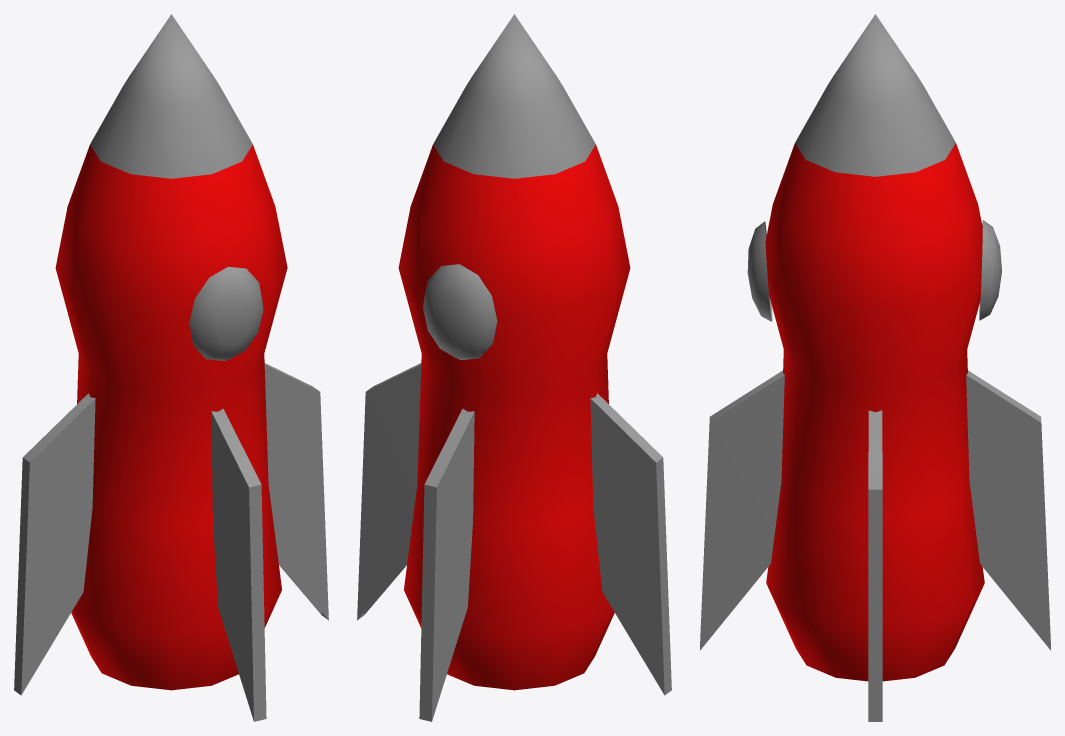
Rendered from model_ship04.FBX.
3 renders of one model, left to right at view 1: azimuth 30°, elevation 25°; view 2: azimuth 150°, elevation 25°; view 3: azimuth 270°, elevation 25°, orthographic.
Visible parts, largest first — view 1: mesh_ship04; view 2: mesh_ship04; view 3: mesh_ship04.
Part boxes in pixels (bbox=[...]): mesh_ship04: bbox=[14, 14, 328, 721]; mesh_ship04: bbox=[357, 14, 671, 721]; mesh_ship04: bbox=[700, 14, 1050, 721].
Bounding box in the file's own units: 22.32 × 44.53 × 22.32.
